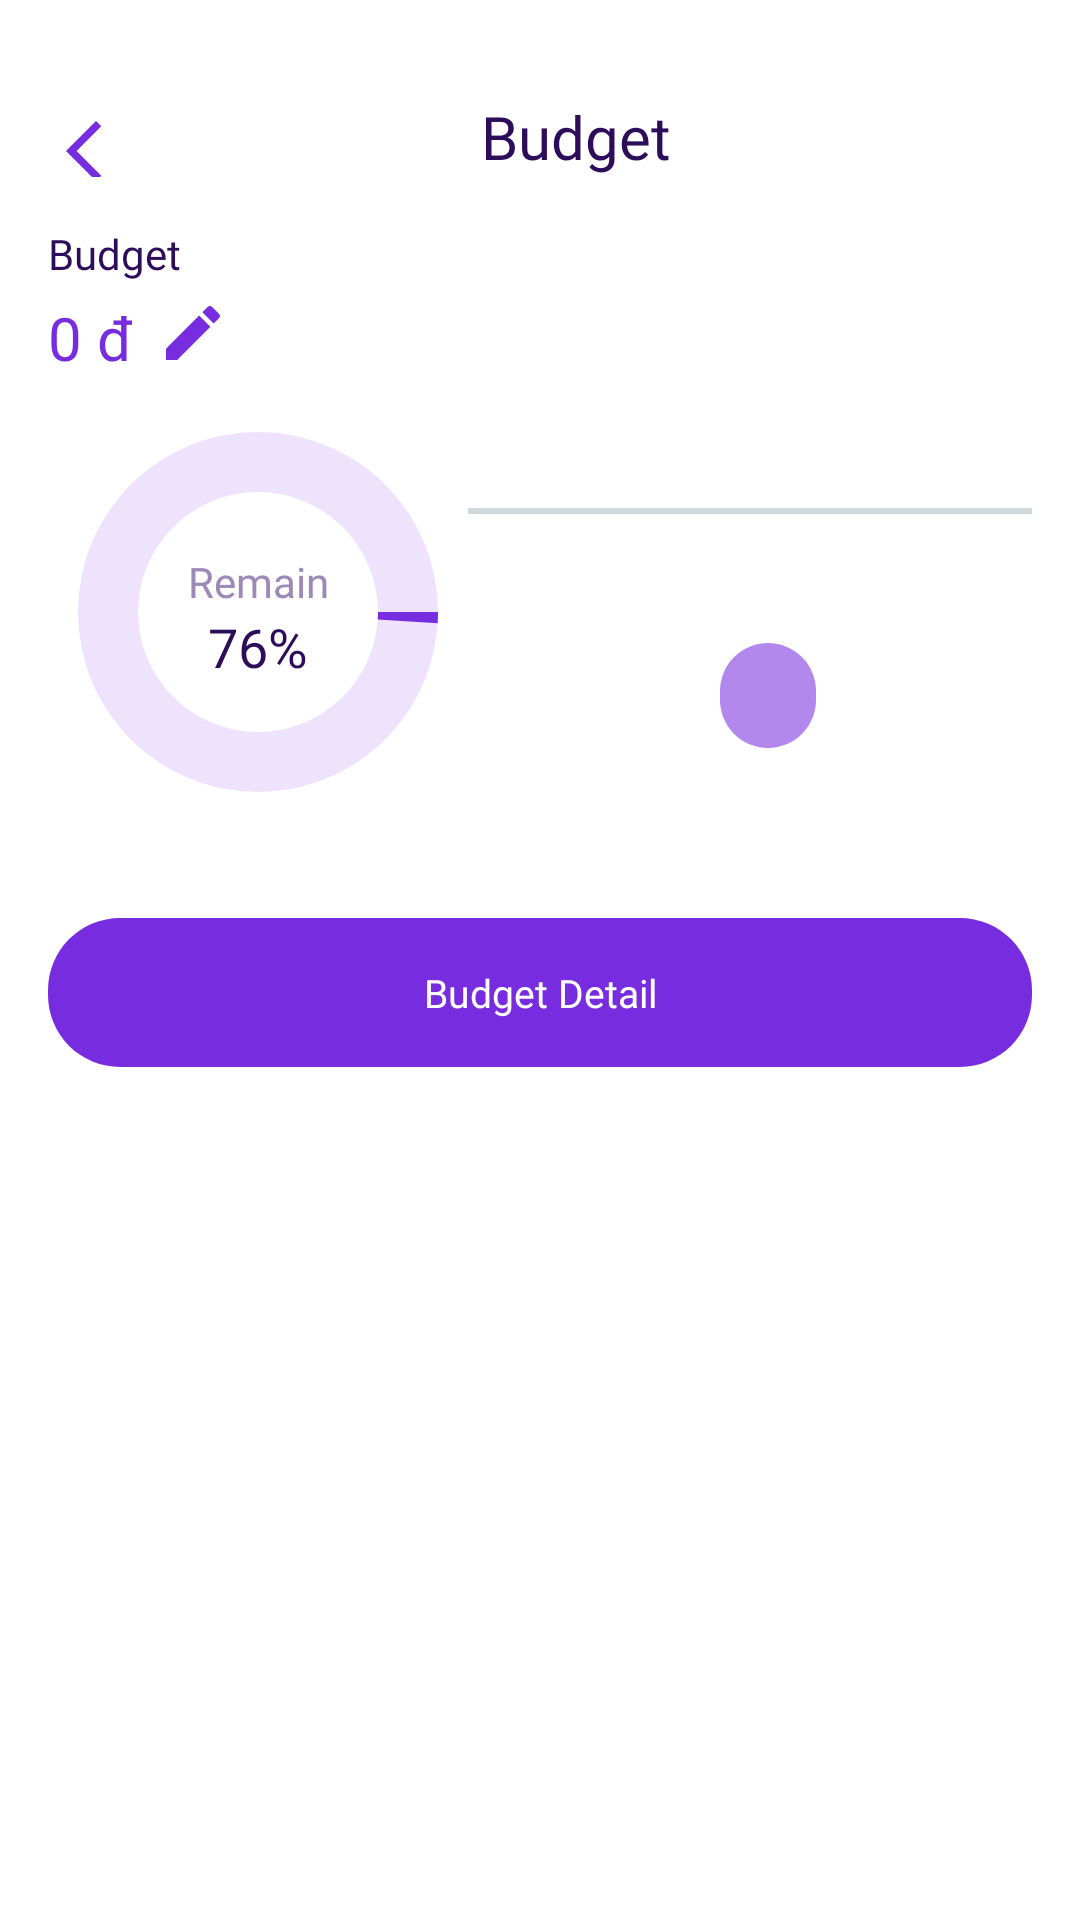

Screen size 1080w x 1920h. Icon name, then its center in pixels as point (x, y):
edit: point (193, 333)
